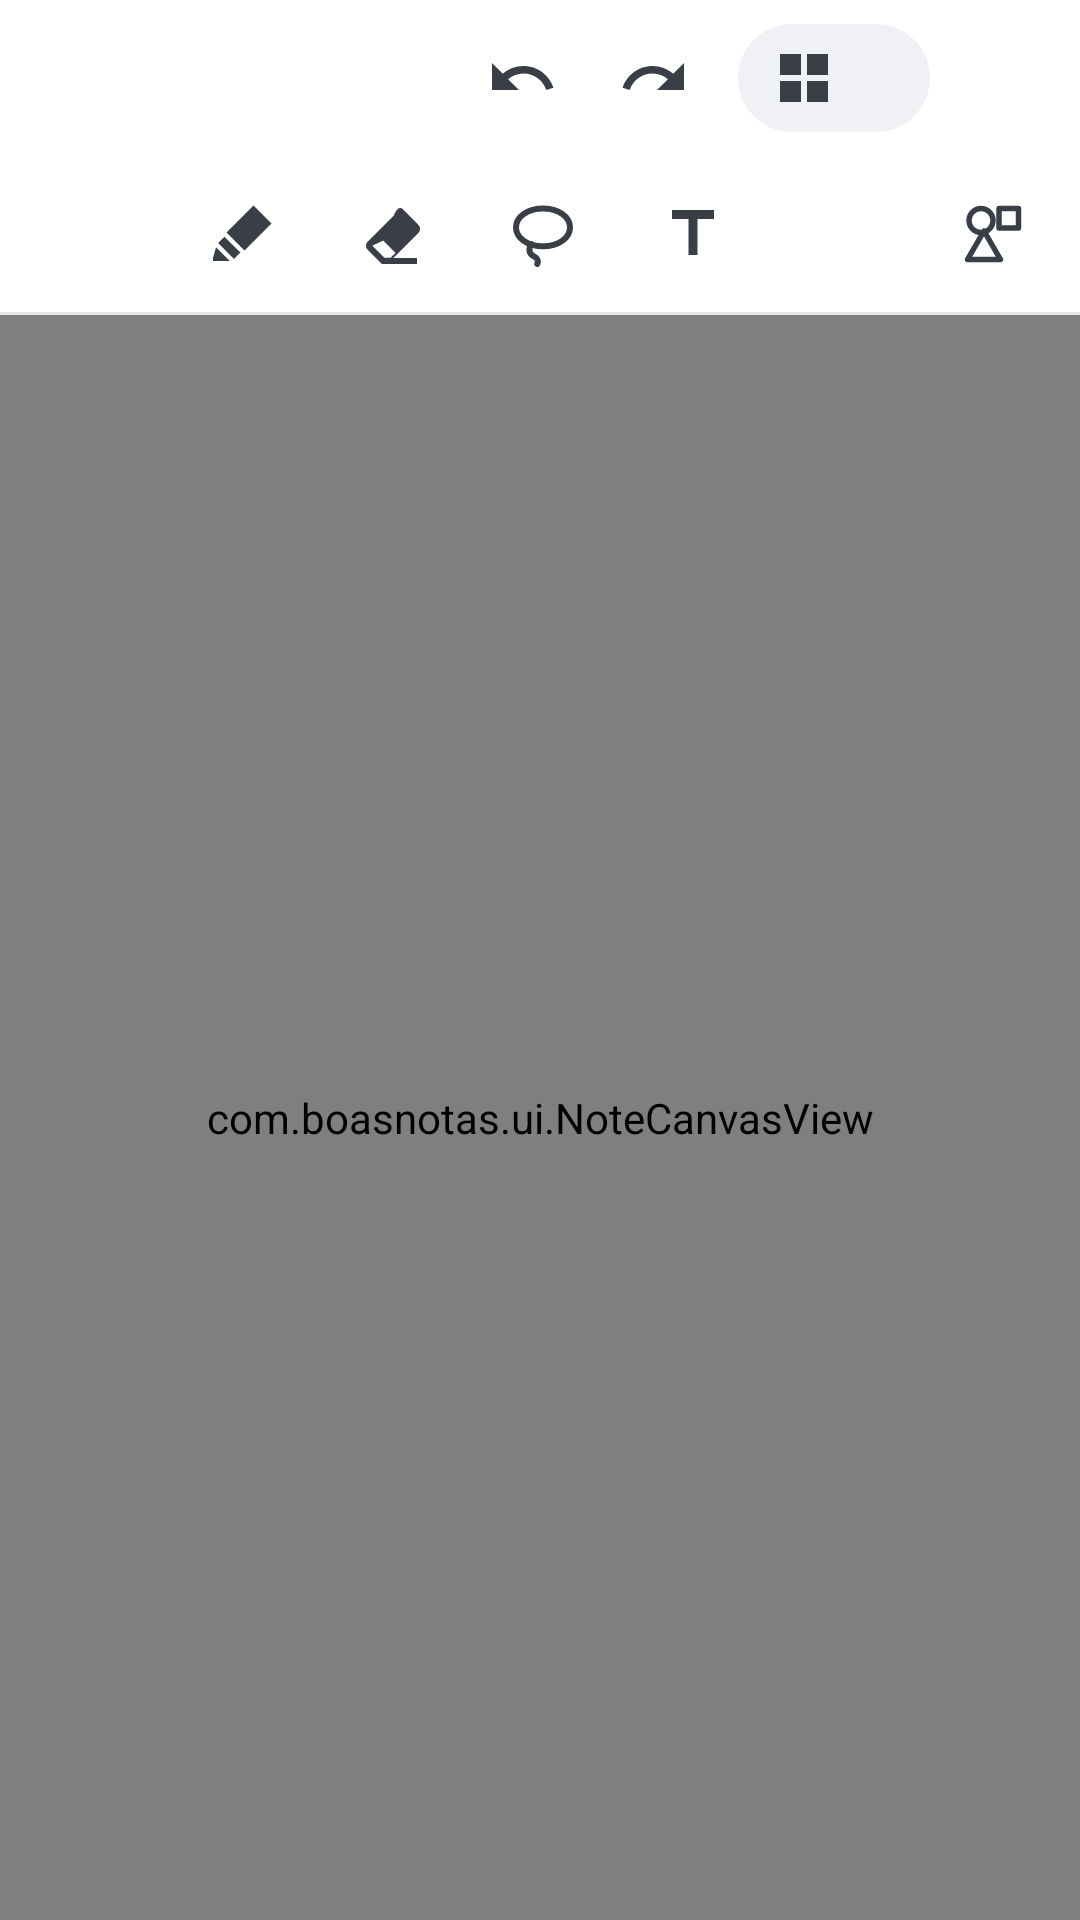

Screen size 1080×1920. Icon name, then its center in pixels as point (x, y):
Borracha: point (393, 236)
Desfazer: point (523, 76)
Formas automáticas: point (993, 234)
Laço (selecionar): point (543, 236)
Marca-texto: point (242, 233)
Refazer: point (653, 76)
Texto: point (693, 232)
